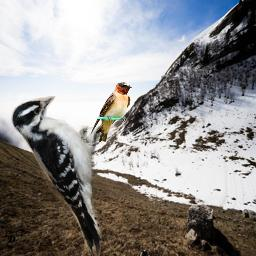Swallow: (90, 82, 132, 142)
Woodpecker: (11, 96, 113, 256)
